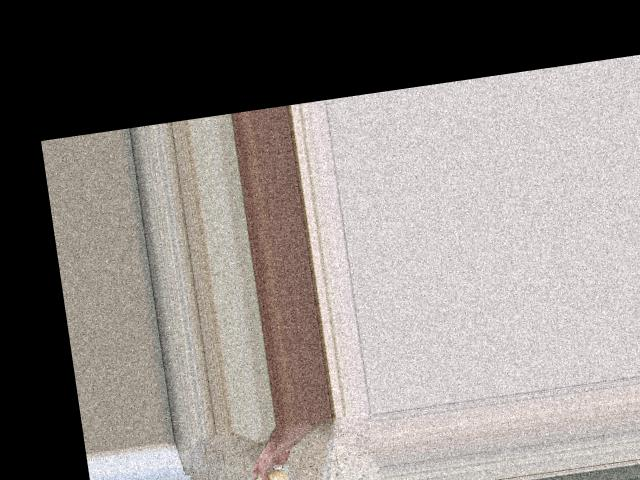cheese: (234, 465, 297, 480)
